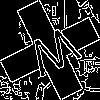W: (25, 25, 87, 87)
